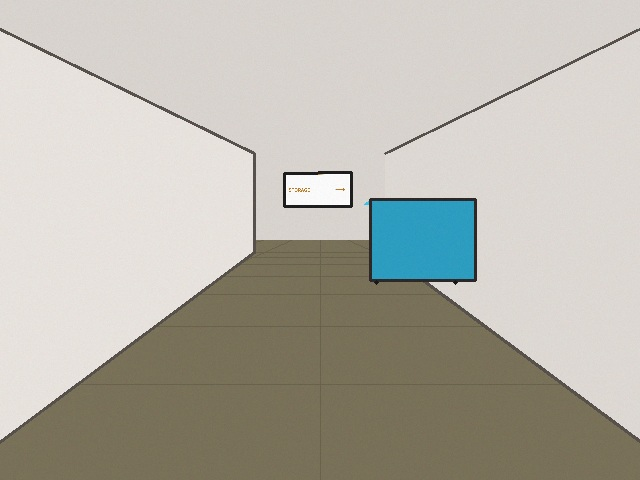cart: (364, 199, 475, 280)
directional_sign: (284, 172, 351, 206)
